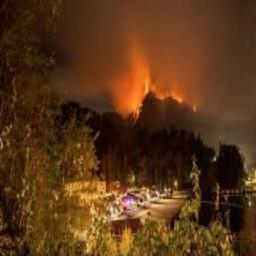Low smoke: (39, 0, 116, 113), (201, 56, 253, 170)
Medium fire: (120, 51, 197, 132)
